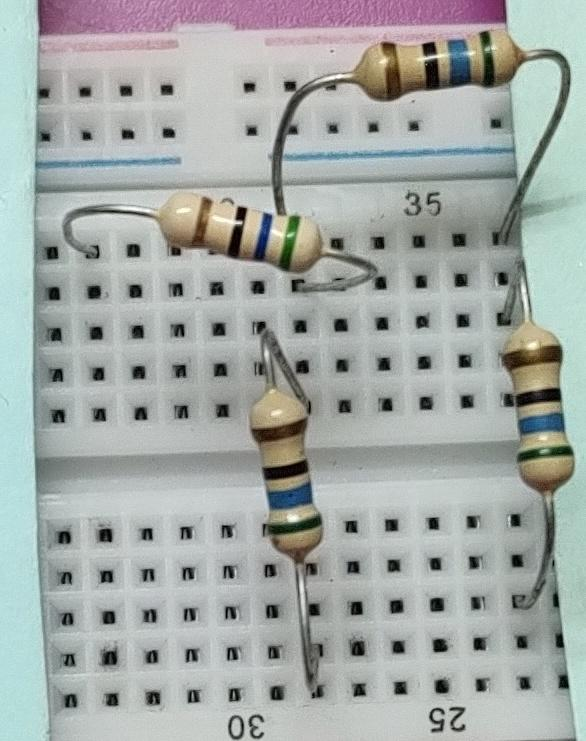resistor: (152, 176, 327, 297), (246, 379, 334, 566), (496, 309, 575, 504), (348, 25, 533, 107)
